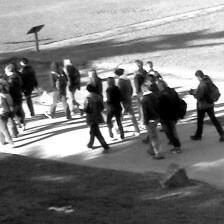person: (190, 69, 224, 144), (157, 80, 181, 153), (140, 85, 163, 160), (85, 82, 109, 150), (115, 67, 140, 132), (45, 61, 69, 118), (104, 74, 125, 139), (5, 63, 25, 124), (1, 80, 19, 145), (63, 58, 82, 114), (19, 57, 36, 118), (88, 69, 108, 113), (133, 58, 146, 122), (1, 82, 12, 144), (144, 60, 163, 83), (143, 77, 158, 96)
